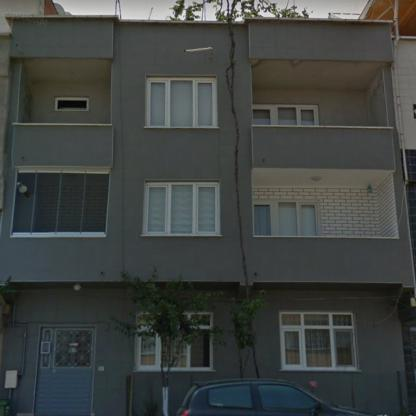door: (33, 326, 95, 415)
window: (10, 168, 110, 237), (280, 312, 357, 370), (144, 183, 219, 234), (147, 78, 216, 128), (252, 199, 321, 235), (173, 332, 212, 370), (253, 104, 318, 126), (135, 337, 161, 371), (54, 98, 88, 109)
